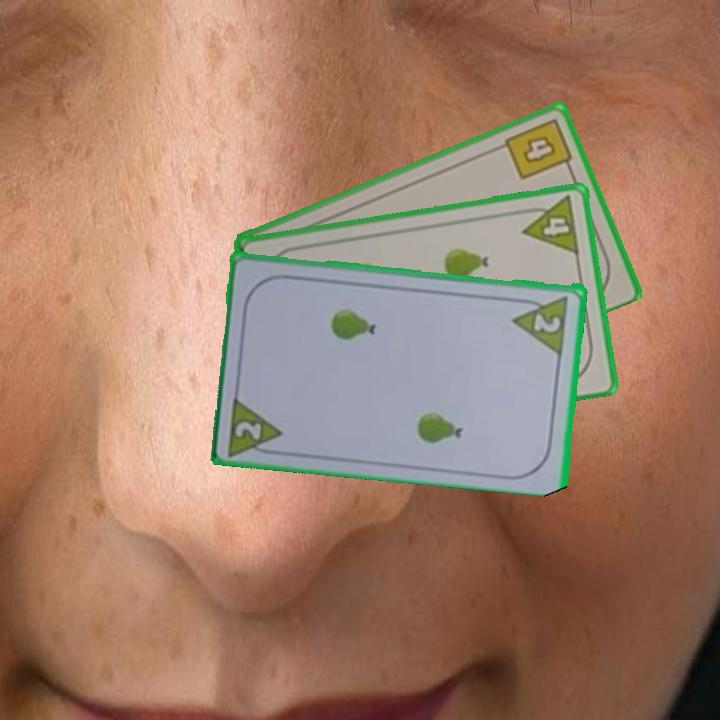2p: (224, 391, 287, 458), (530, 310, 564, 336)
4b: (501, 114, 576, 183)
4p: (516, 192, 582, 257)
